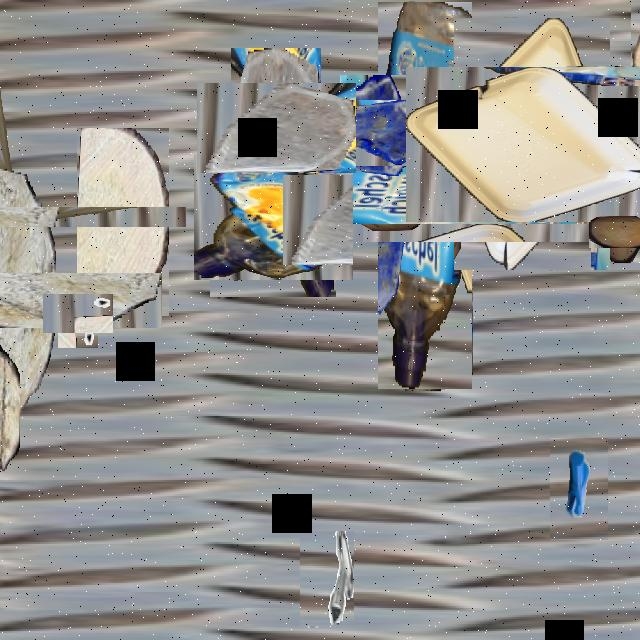glass: (214, 66, 338, 190), (327, 88, 419, 179)
metal: (401, 174, 461, 281), (550, 438, 608, 540), (300, 532, 354, 628), (50, 285, 106, 341), (294, 186, 350, 241)
plastic: (305, 75, 545, 316), (430, 42, 634, 246), (202, 146, 344, 288), (0, 124, 103, 310)
wood: (0, 219, 108, 381), (77, 128, 169, 316), (598, 34, 640, 107), (0, 343, 20, 471), (595, 203, 640, 255)
